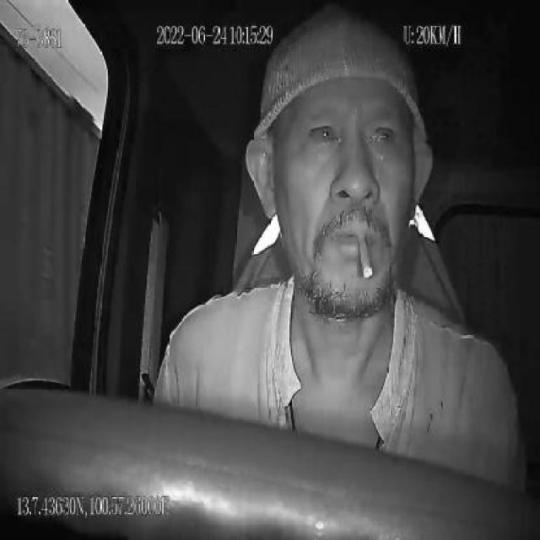smoking: (356, 222, 374, 280)
